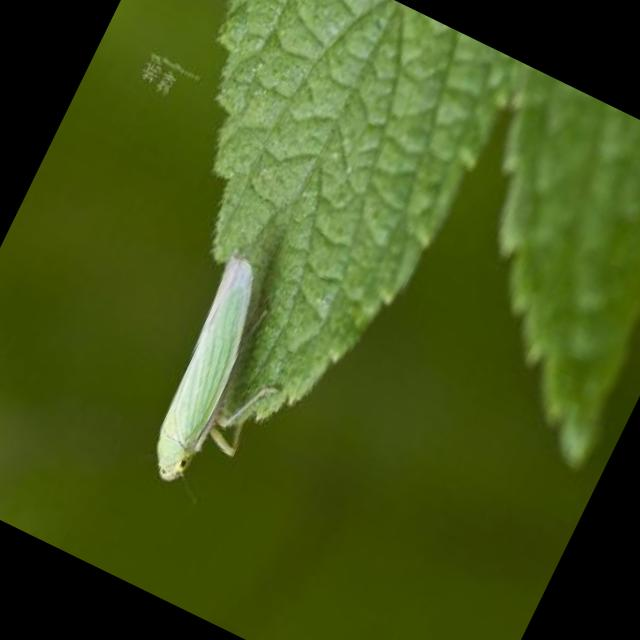green-leafhopper: (126, 245, 327, 511)
